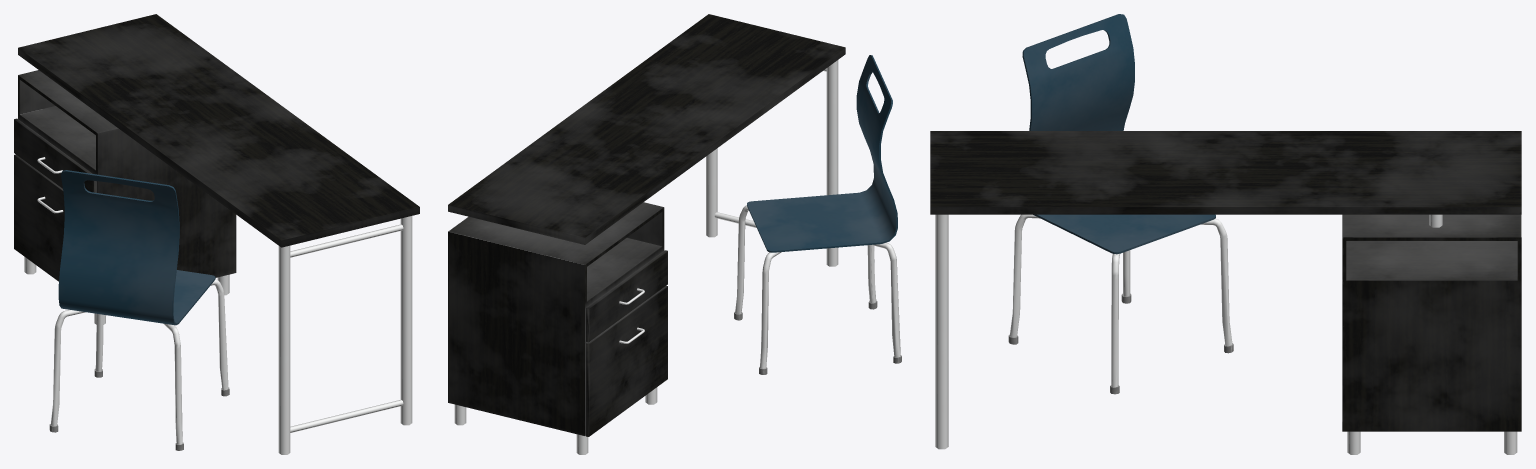
Rendered from bedroom_desk.fbx.
3 renders of one model, left to right at view 1: azimuth 30°, elevation 25°; view 2: azimuth 150°, elevation 25°; view 3: azimuth 270°, elevation 25°, orthographic. The views are drawn at different scales.
Parts seen in each view (by area): view 1: Cube.128; view 2: Cube.128; view 3: Cube.128.
Boxes of the visible parts, x1=… form: Cube.128: x1=14, y1=14, x2=419, y2=454; Cube.128: x1=448, y1=14, x2=901, y2=454; Cube.128: x1=930, y1=14, x2=1521, y2=454.
Bounding box in the file's own units: 115 × 102 × 186.
